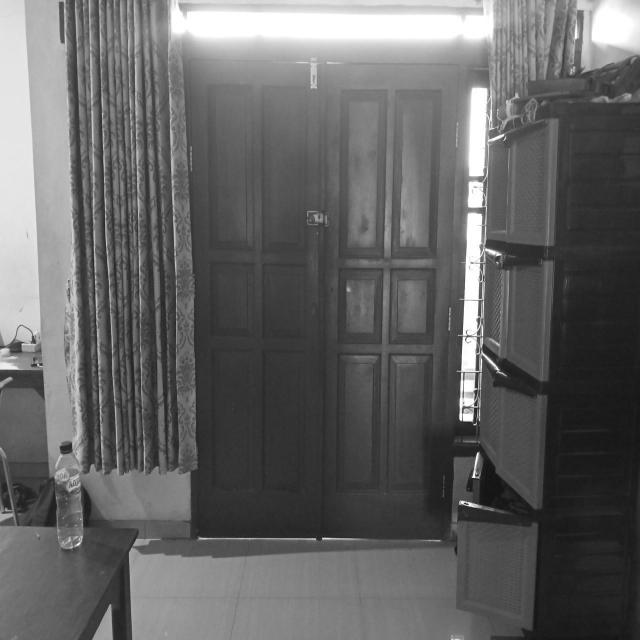door: (182, 29, 470, 551)
